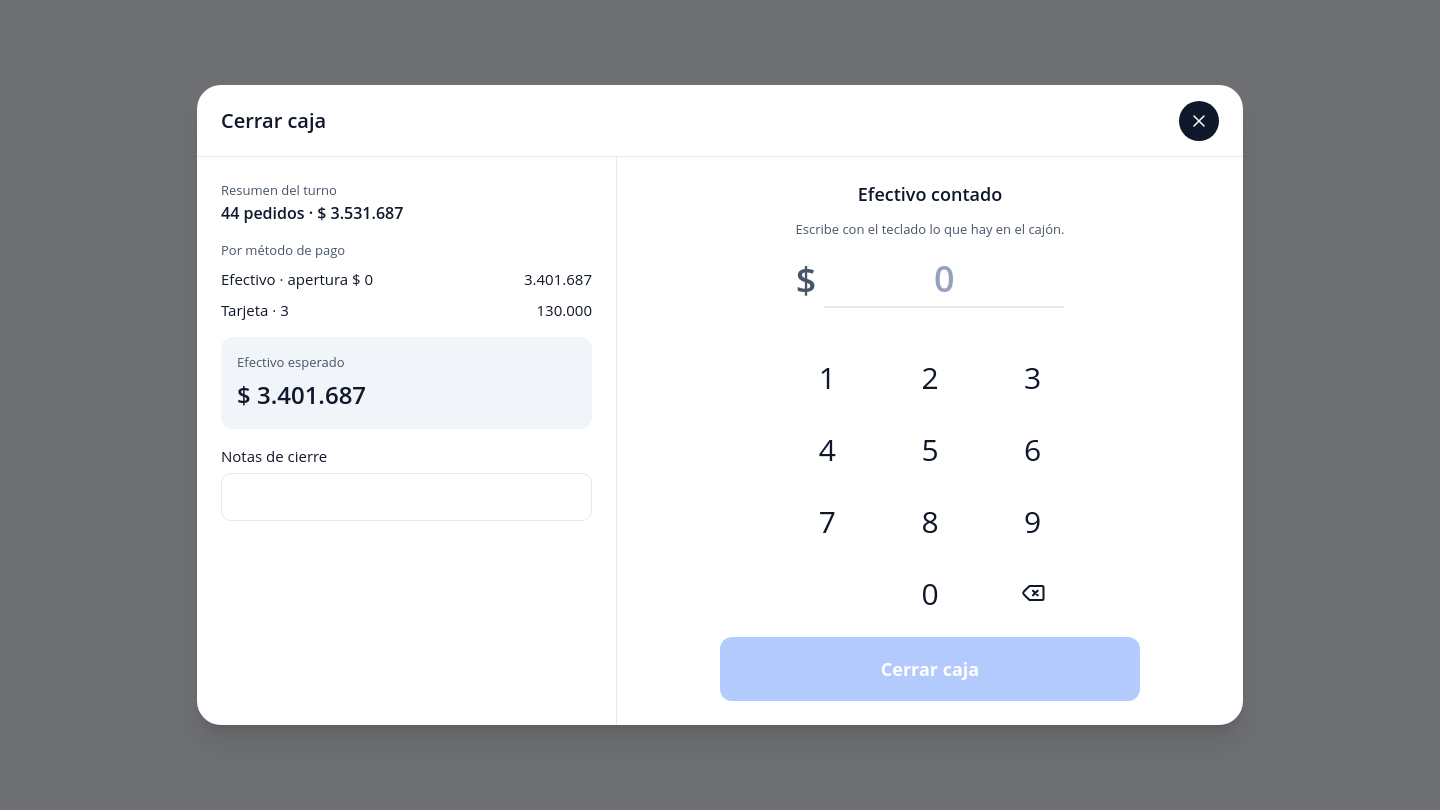
Test: types the counted cash with the kit keypad inside a dialog with the shift summary
Check: the dialog "Cerrar caja" shows "44 pedidos · $ 3.531.687", box [221,202,403,224]
Check: the dialog "Cerrar caja" shows "Tarjeta · 3", box [221,300,289,320]
What coordinates should you click on to do the following:
click the button "5"
I would click on:
 (930, 449)
Its box is [883,417,977,481].
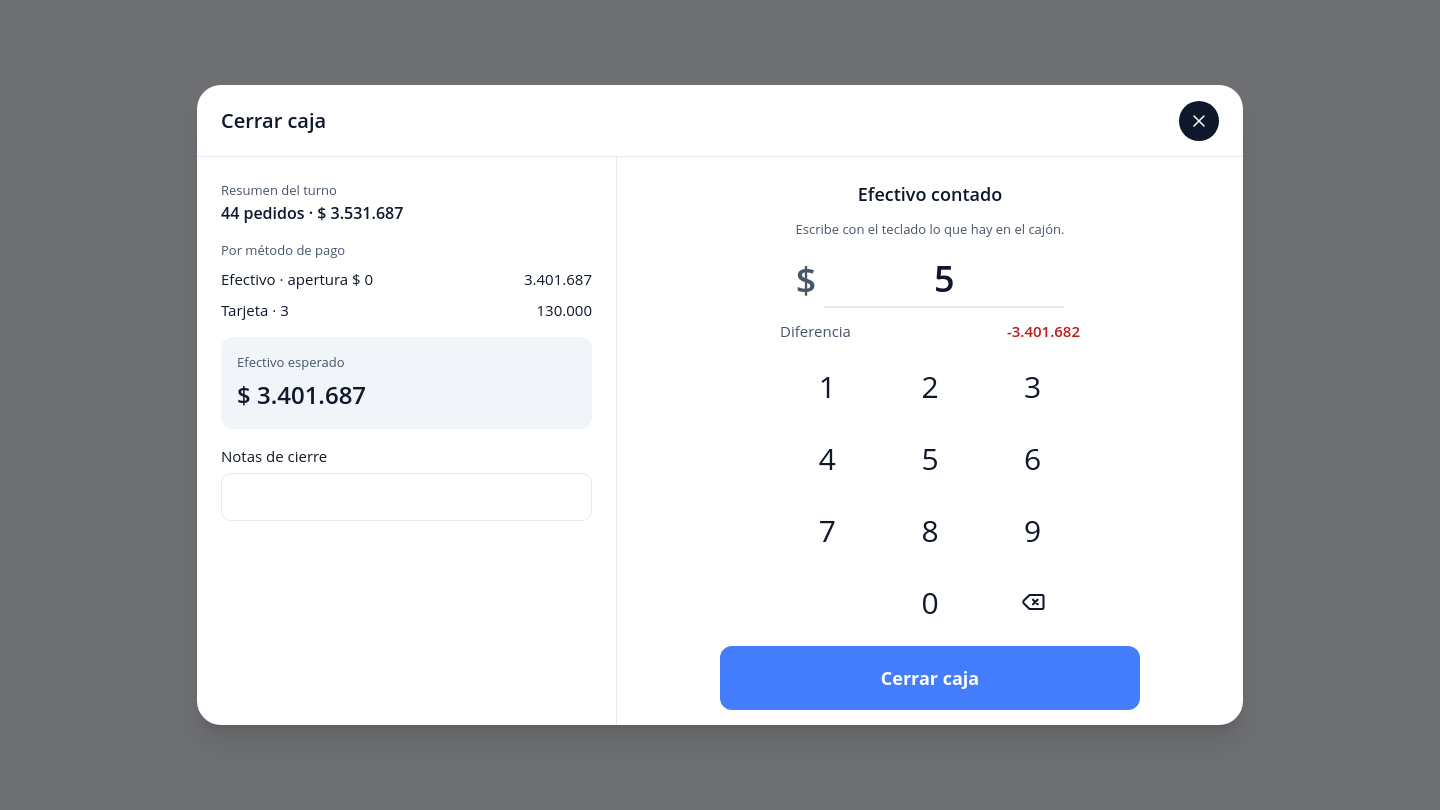
What coordinates should you click on to do the following:
click the button "0"
I would click on:
 (930, 602)
Its box is [883,570,977,634].
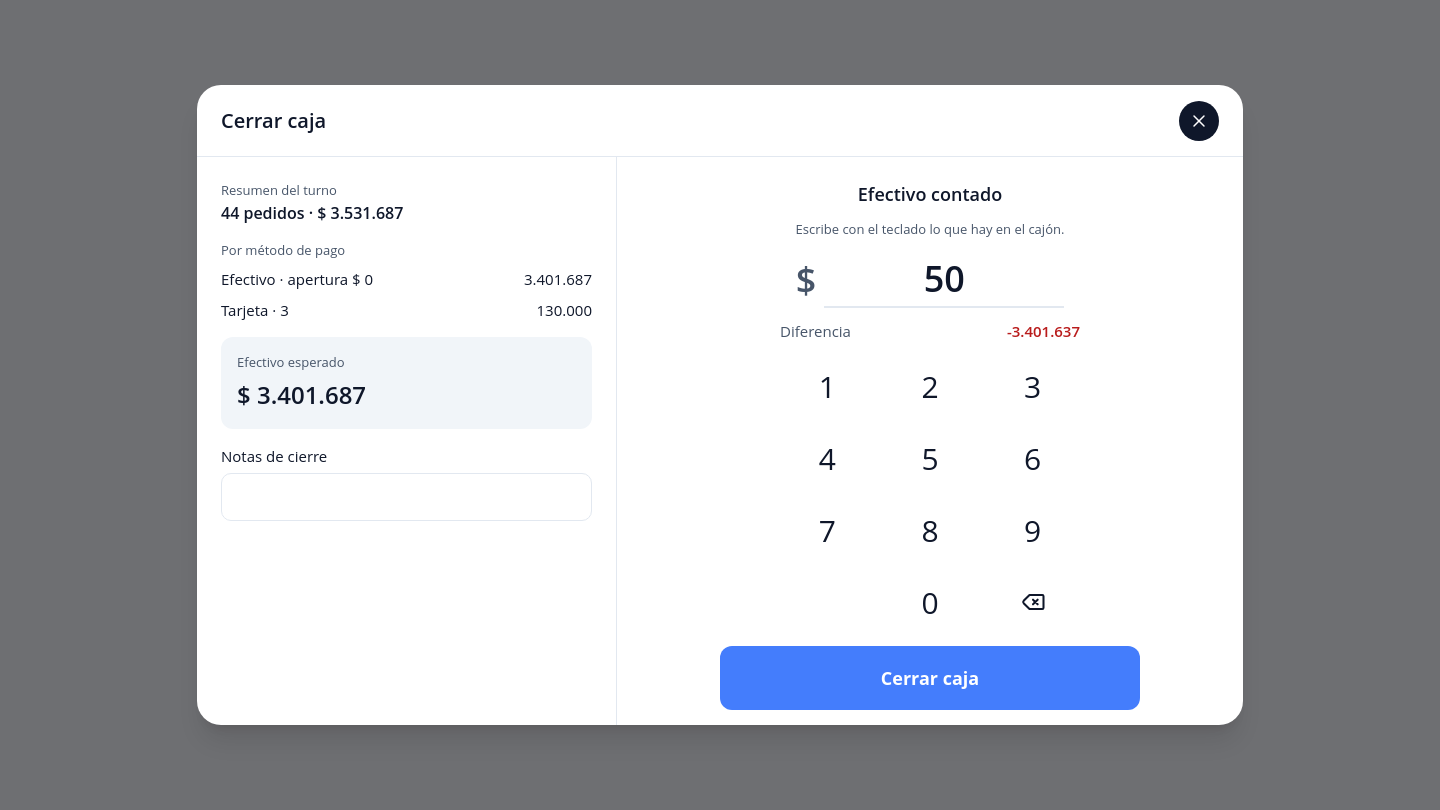
Check: the field named "Efectivo contado" holds "50", box [824,252,1064,308]
What coordinates should you click on to do the following:
click the button named "Borrar"
I would click on:
 (1033, 602)
Its box is [985,570,1080,634].
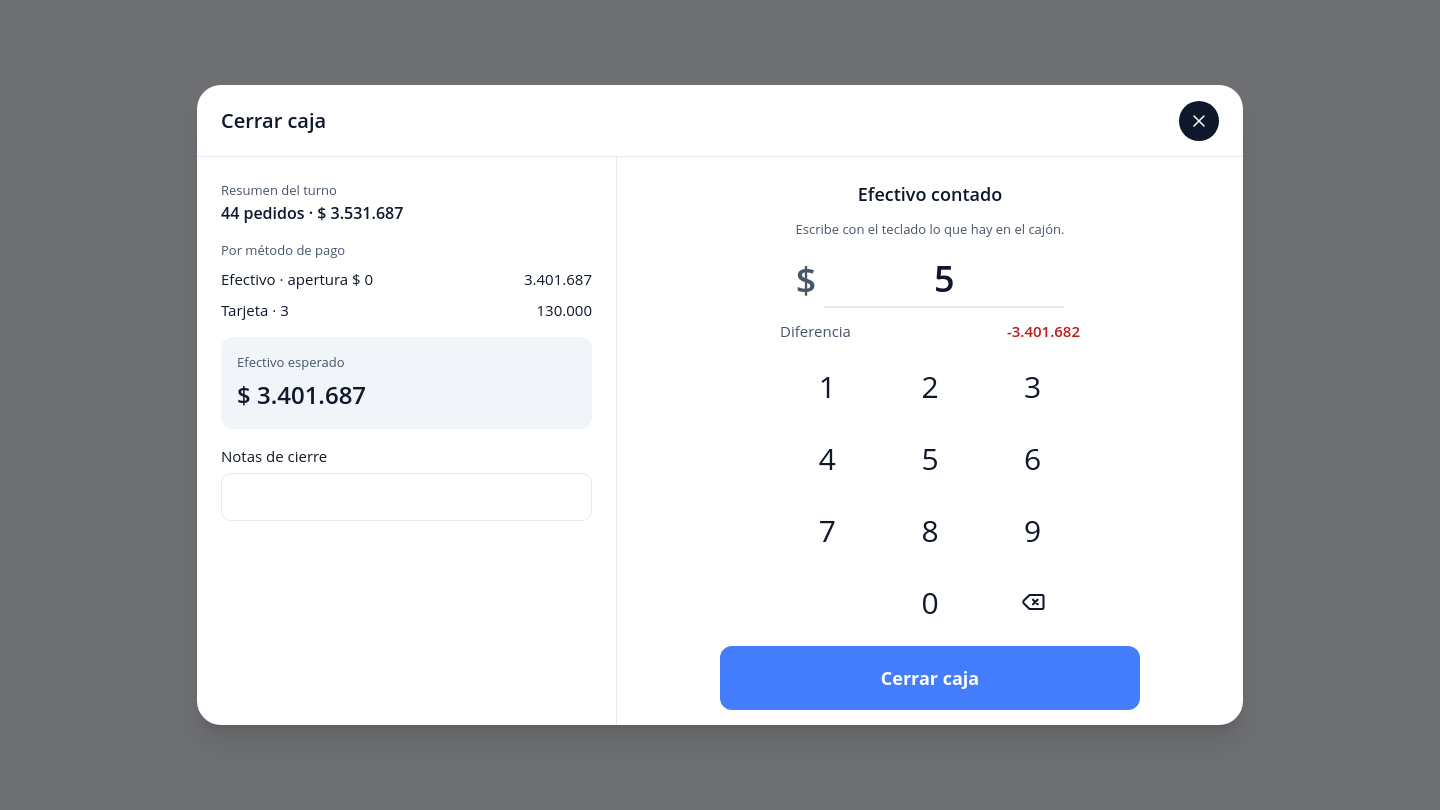
Check: the field named "Efectivo contado" holds "5", box [824,252,1064,308]
